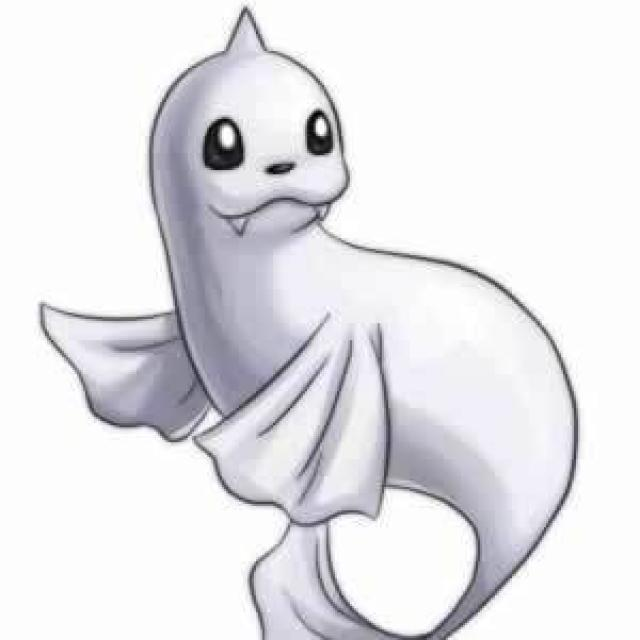Dewgong: (130, 10, 582, 628)
